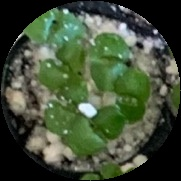Basil: (74, 106, 121, 155), (40, 44, 82, 90), (45, 84, 85, 128), (26, 8, 74, 44), (95, 35, 123, 88), (121, 70, 145, 125)
